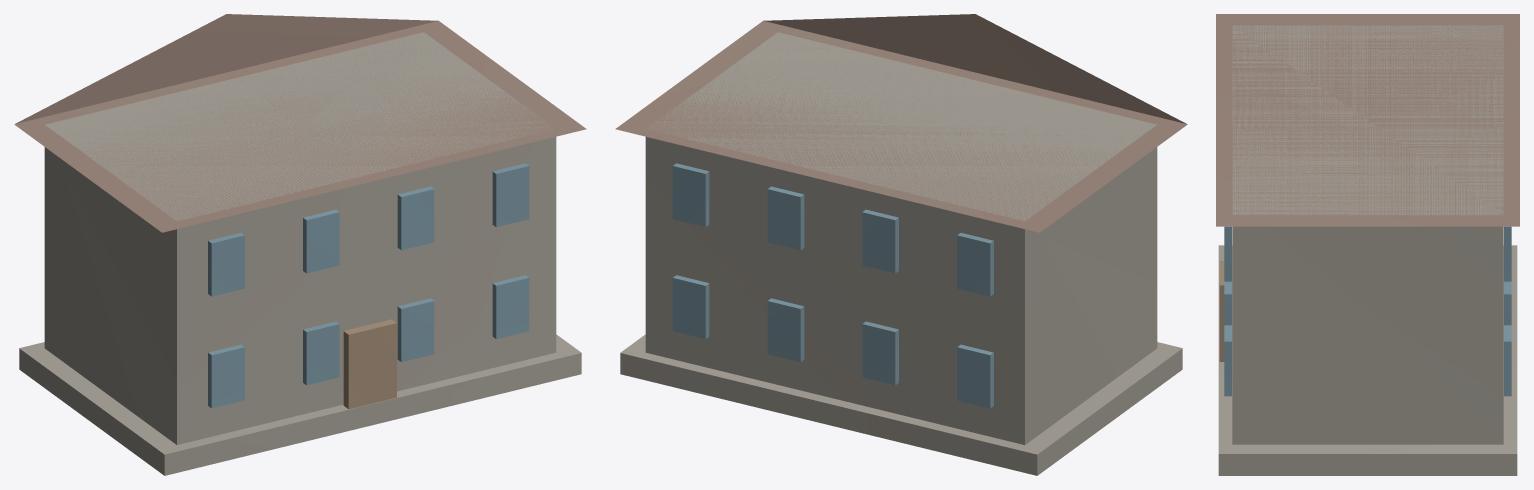
File: townhouse-03.glb
3 views of the same model, side by side, from view 1: azimuth 30°, elevation 25°; view 2: azimuth 150°, elevation 25°; view 3: azimuth 270°, elevation 25° (orthographic). The views are drawn at different scales.
Visible parts, largest first — view 1: world; view 2: world; view 3: world.
Boxes of the visible parts, x1,y1,x2,y2 form: world: [14, 14, 586, 475]; world: [615, 14, 1187, 475]; world: [1216, 14, 1519, 475].
Size of the model in its own units: 1.67 by 1.14 by 1.01.
